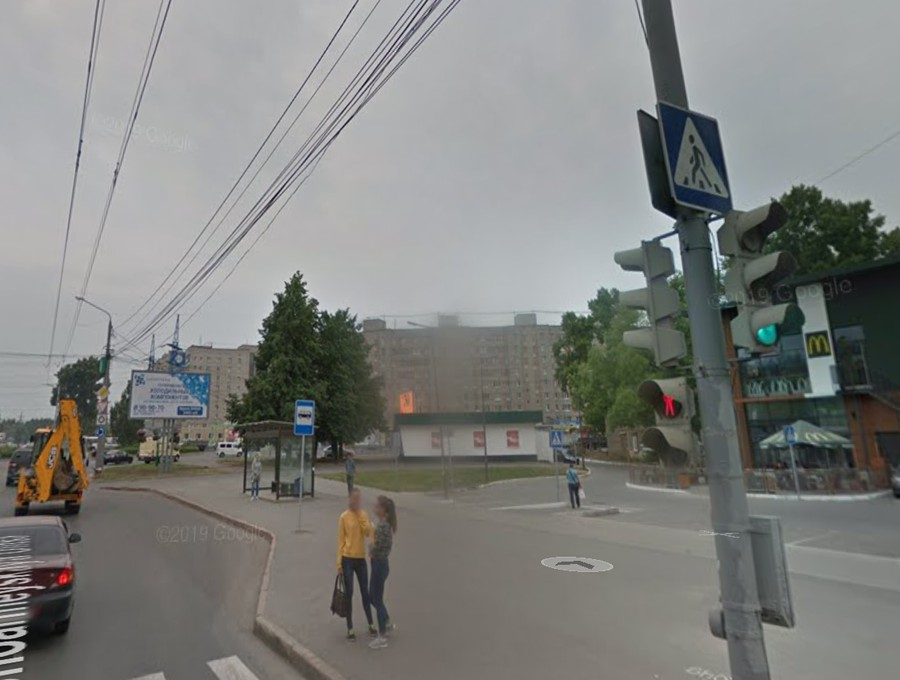Traffic Light-red: (636, 375, 697, 475)
